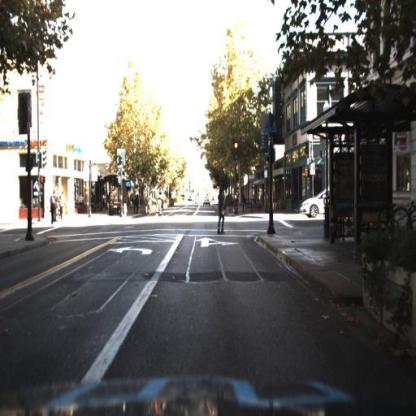car: (296, 177, 329, 221)
pedestrian: (142, 181, 166, 224), (215, 187, 228, 234), (59, 187, 68, 229), (51, 191, 59, 230)
trafficLight-Red: (231, 137, 241, 163), (117, 151, 126, 174)
